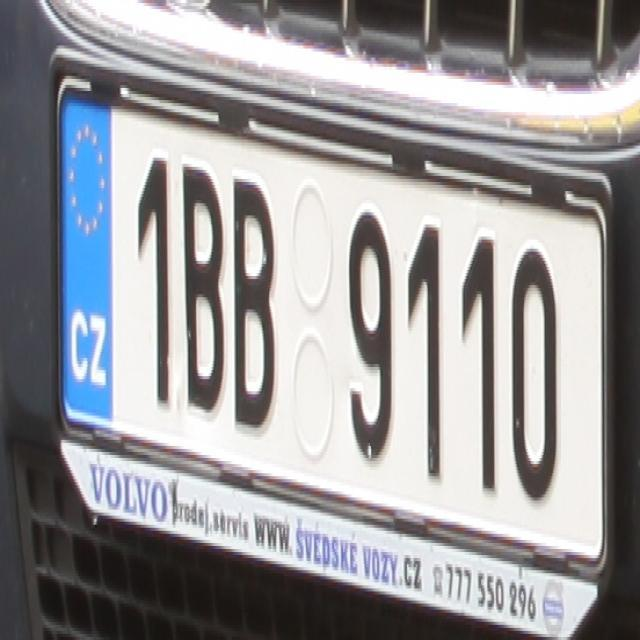0: (509, 240, 561, 503)
1: (462, 228, 498, 498), (406, 216, 440, 494), (138, 148, 172, 410)
9: (349, 206, 393, 464)
B: (181, 164, 226, 416), (233, 170, 277, 425)
